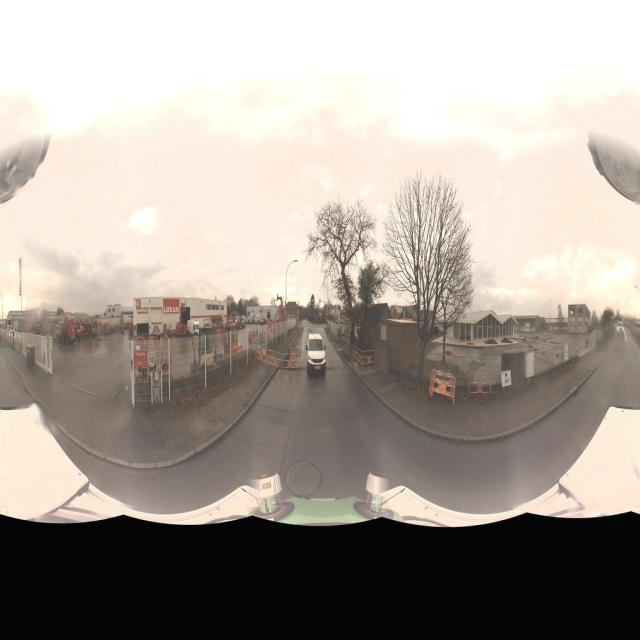car: (304, 332, 327, 378)
